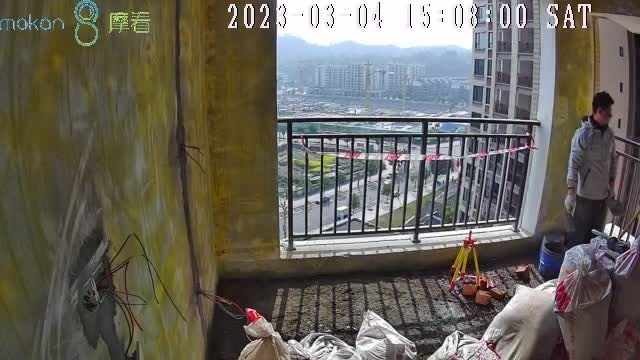people: (564, 92, 616, 237)
window: (277, 1, 537, 237)
